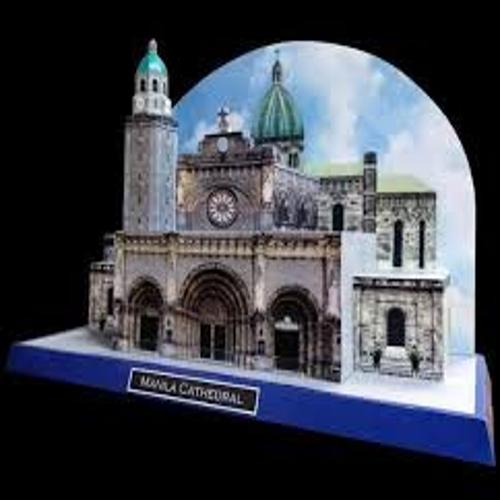Manila Cathedral Church: (80, 36, 449, 380)
